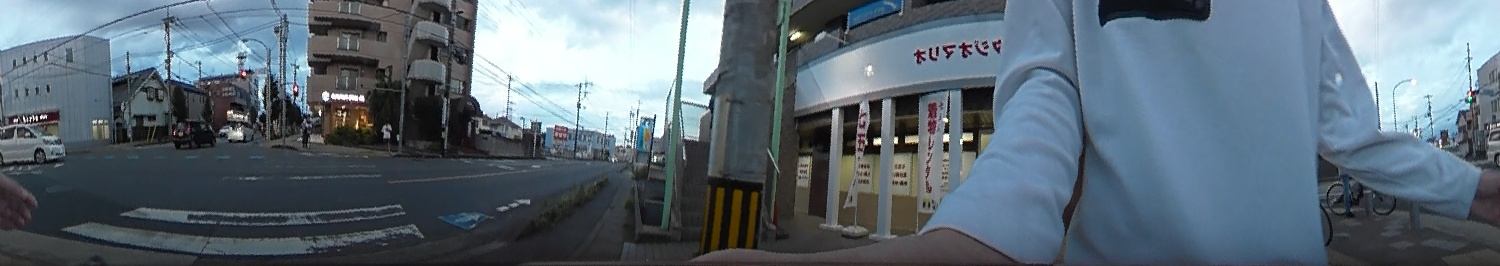difficult_person: (379, 116, 392, 151), (299, 117, 311, 148)
